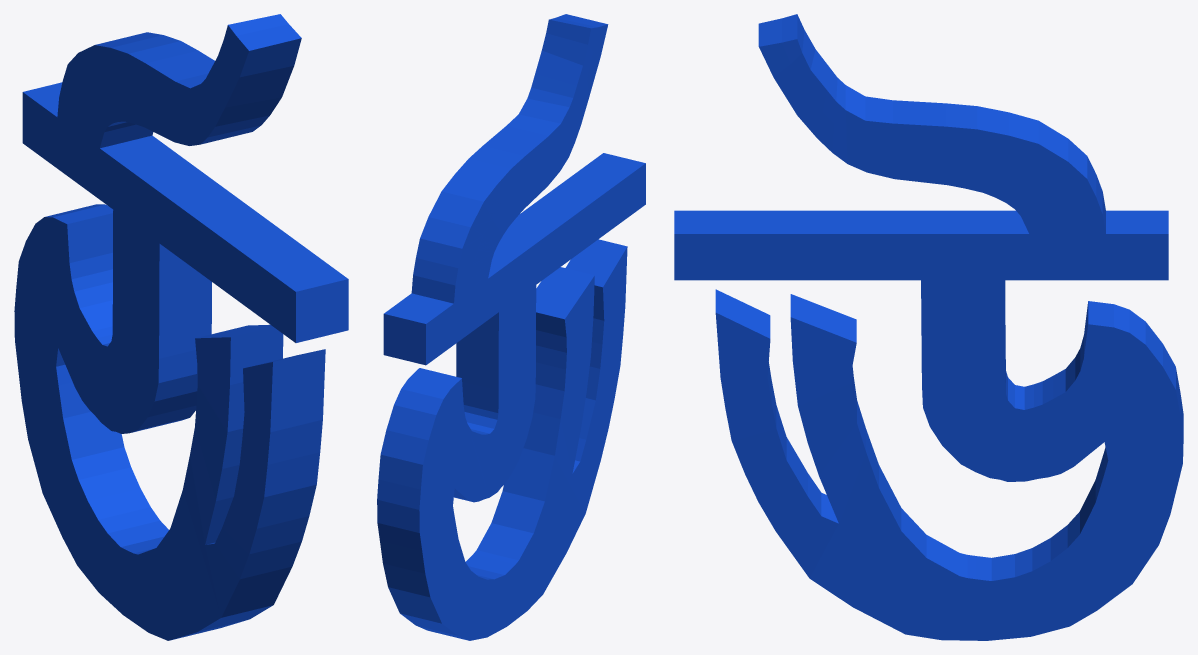
3 views of the same model, side by side, from view 1: azimuth 30°, elevation 25°; view 2: azimuth 150°, elevation 25°; view 3: azimuth 270°, elevation 25° (orthographic). The views are drawn at different scales.
Parts seen in each view (by area): view 1: Cube; view 2: Cube; view 3: Cube.
Part boxes in pixels (x1,y1,x2,y2): Cube: [14, 14, 348, 640]; Cube: [377, 14, 645, 640]; Cube: [674, 14, 1183, 640].
Bounding box in the file's own units: 106 × 1231 × 941.
